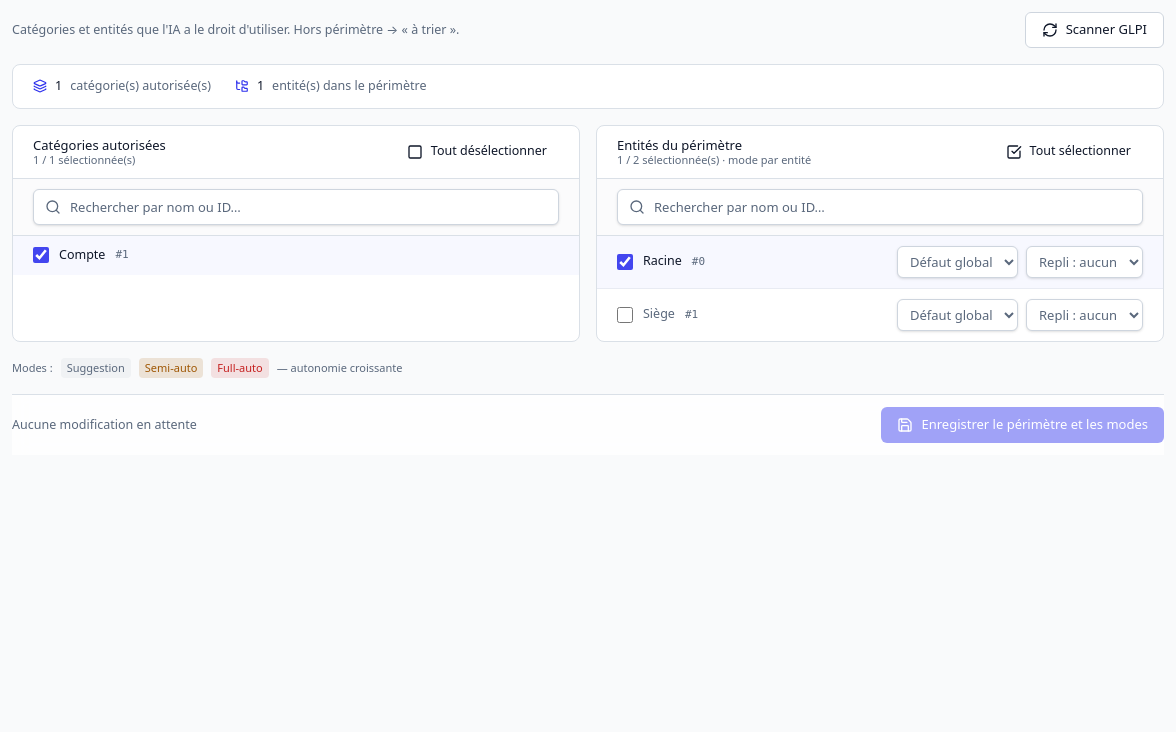
Test: Scope — périmètre & modes › enregistre le périmètre et les modes par entité
Select "Full-auto" in the dropdown named "Mode pour Racine" at (958, 262), box x1=897 y1=246 x2=1018 y2=278
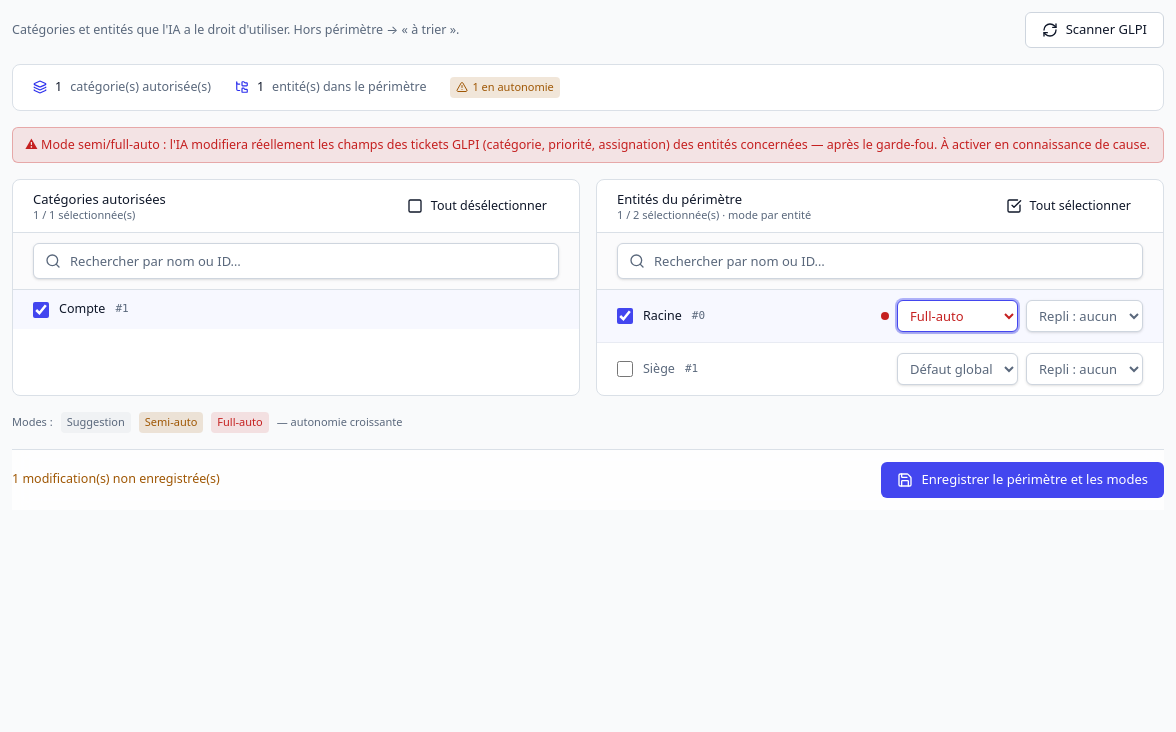
Click the button "Enregistrer le périmètre et les modes" at (1023, 480), box x1=881 y1=462 x2=1164 y2=498
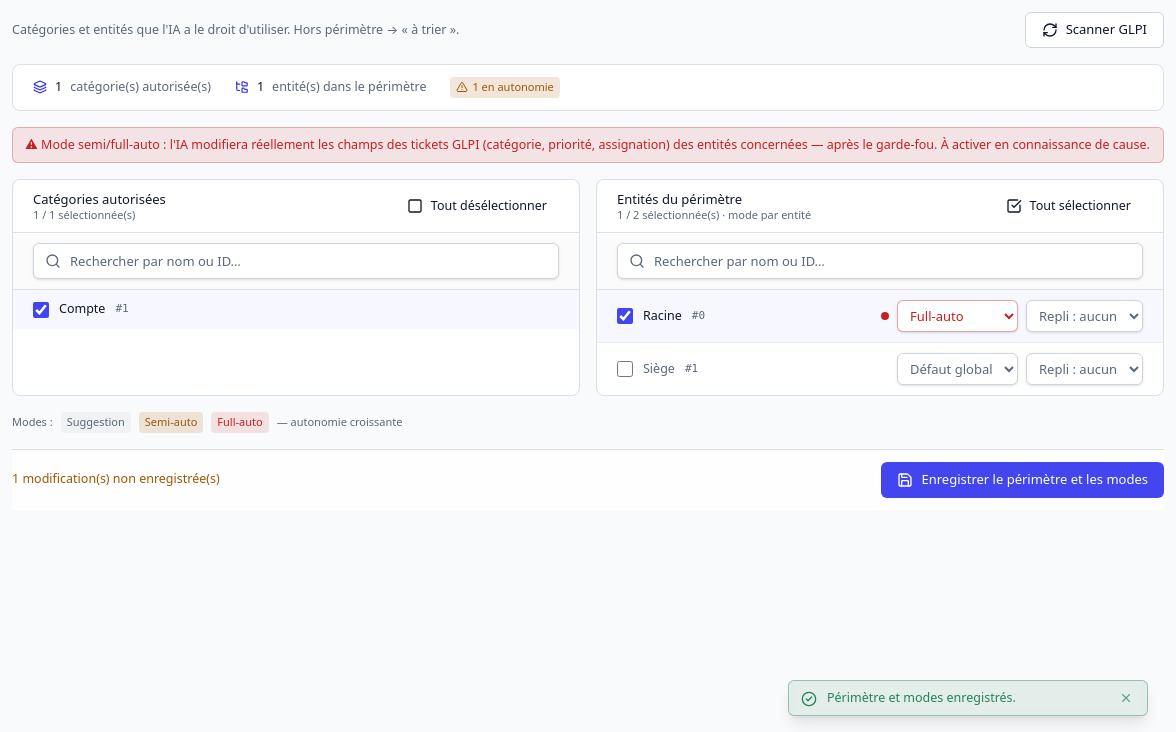
Check: the text "Périmètre et modes enregistrés." is shown, box x1=827 y1=689 x2=1016 y2=706
